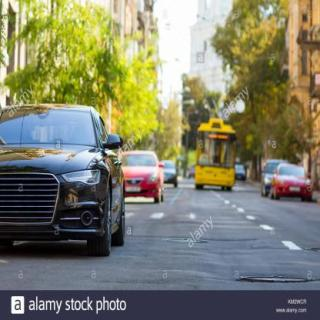Normal_vehicle: (0, 104, 126, 256)
